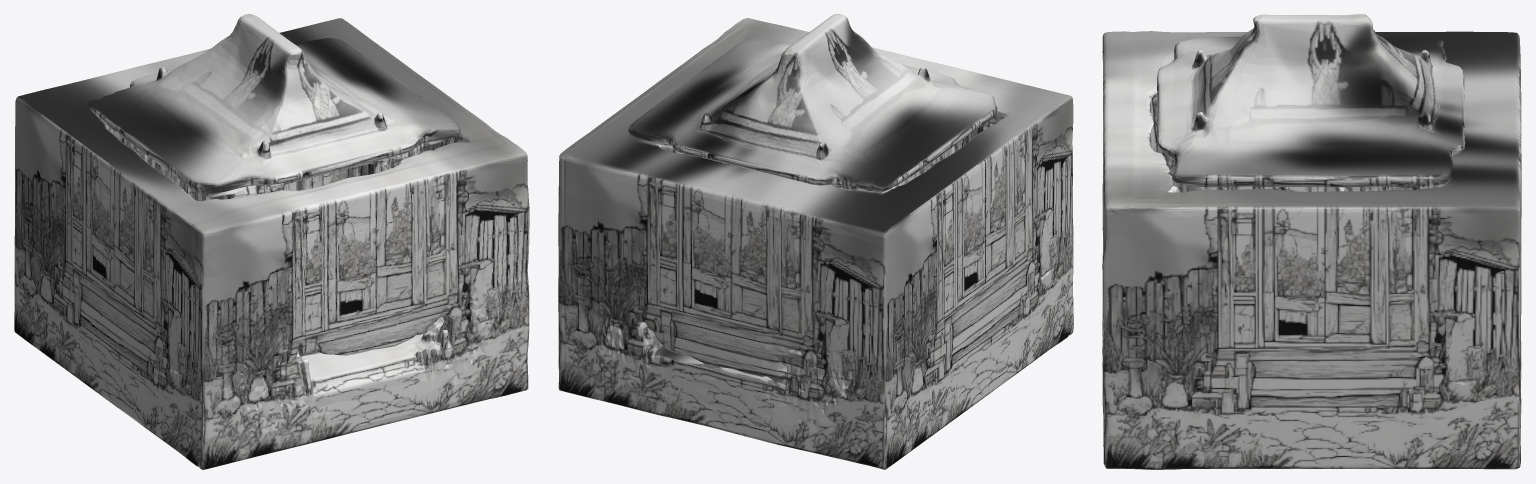
File: shrine_small.glb
3 renders of one model, left to right at view 1: azimuth 30°, elevation 25°; view 2: azimuth 150°, elevation 25°; view 3: azimuth 270°, elevation 25°, orthographic. The views are drawn at different scales.
Visible parts, largest first — view 1: shrine_small; view 2: shrine_small; view 3: shrine_small.
Part boxes in pixels (box(x1,y1,x2,y2)): shrine_small: box(14, 14, 529, 469); shrine_small: box(558, 14, 1073, 469); shrine_small: box(1102, 14, 1521, 469).
Size of the model in its own units: 1.55 by 1.5 by 1.56.
1 material, 1 textured.
